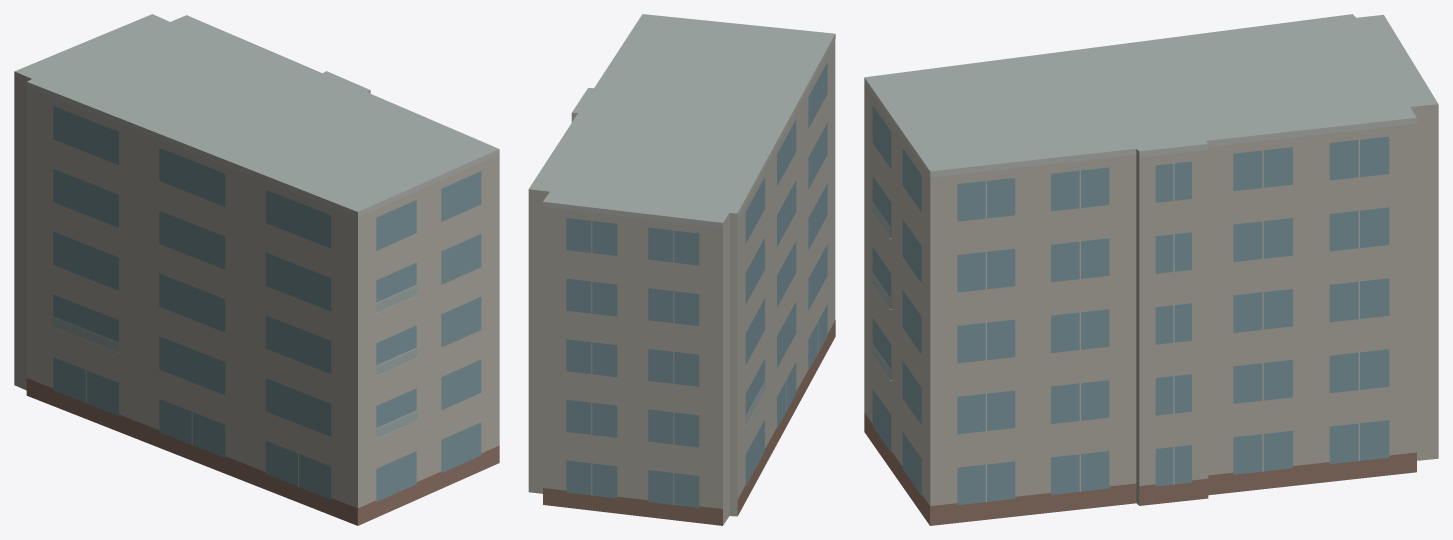
The model's file is survey-upis-32650897.glb.
3 renders of one model, left to right at view 1: azimuth 30°, elevation 25°; view 2: azimuth 150°, elevation 25°; view 3: azimuth 270°, elevation 25°, orthographic. The views are drawn at different scales.
Parts seen in each view (by area): view 1: survey-upis-32650897.tmp; view 2: survey-upis-32650897.tmp; view 3: survey-upis-32650897.tmp.
Part boxes in pixels (left/top/right/bottom): survey-upis-32650897.tmp: left=14, top=14, right=499, bottom=525; survey-upis-32650897.tmp: left=528, top=14, right=835, bottom=525; survey-upis-32650897.tmp: left=864, top=14, right=1438, bottom=525.
Size of the model in its own units: 13.58 by 14.25 by 20.93.
